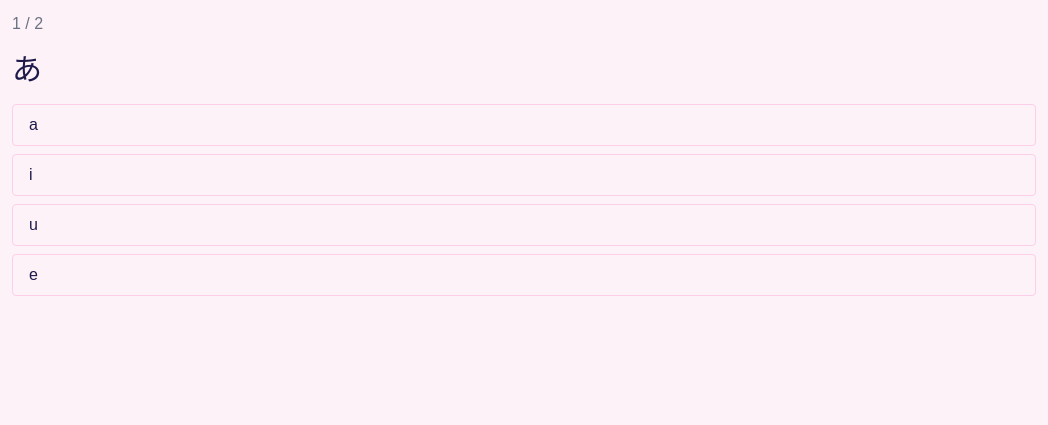
Test: QuizSession › shows the correct answer when the user answers incorrectly
Click the button "i".
click(31, 174)  # box x1=12 y1=154 x2=1036 y2=196
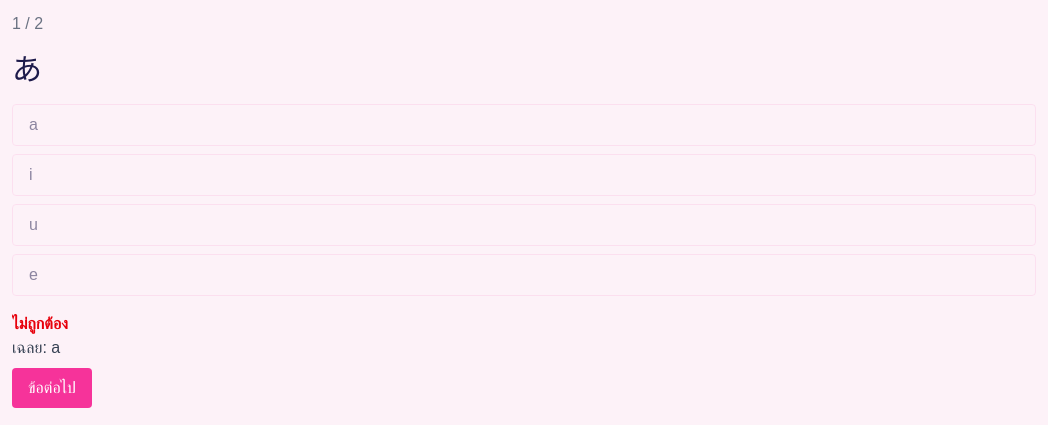
Expected: the text with test id "correct-answer" shows "a", x1=51 y1=339 x2=60 y2=356
